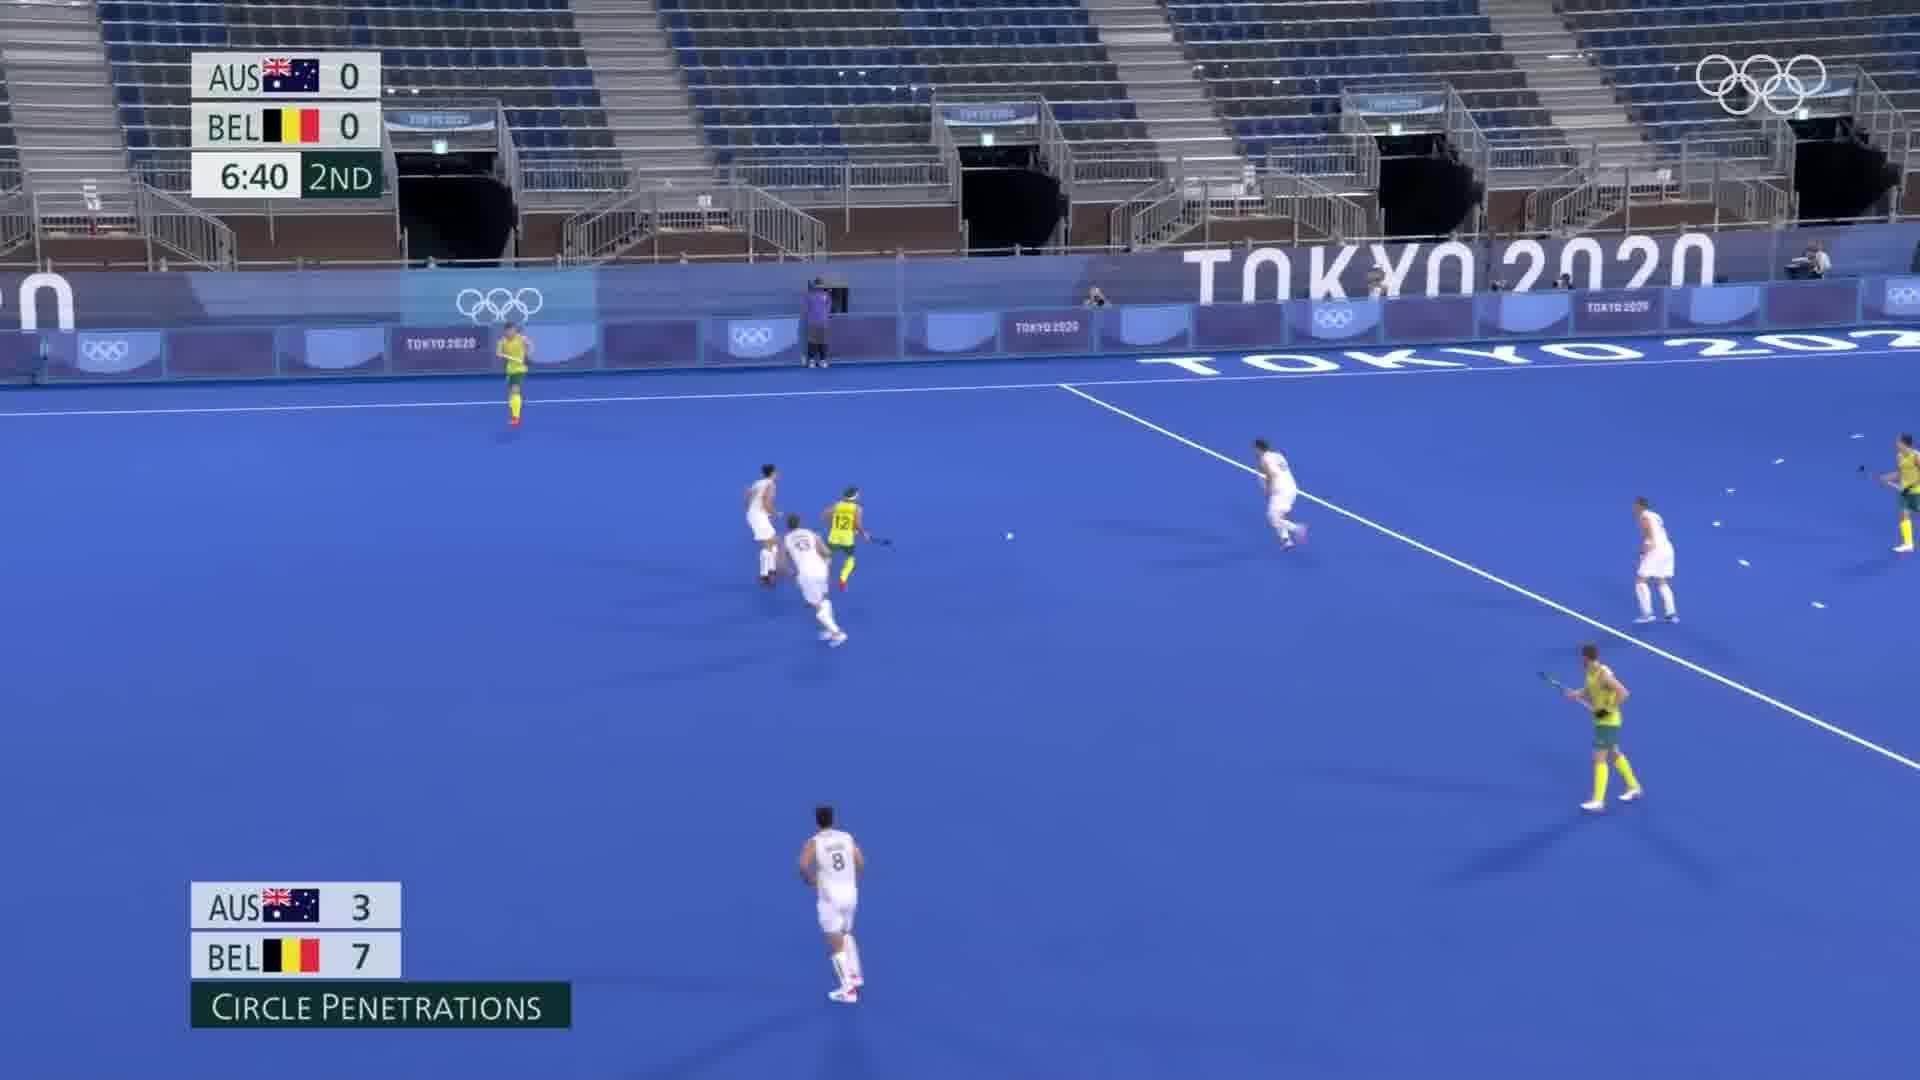ball: (1000, 527, 1019, 546)
